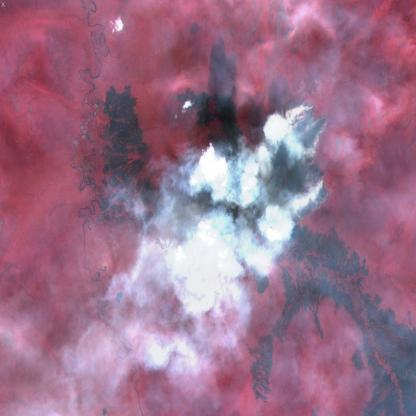fire: (258, 96, 336, 226)
